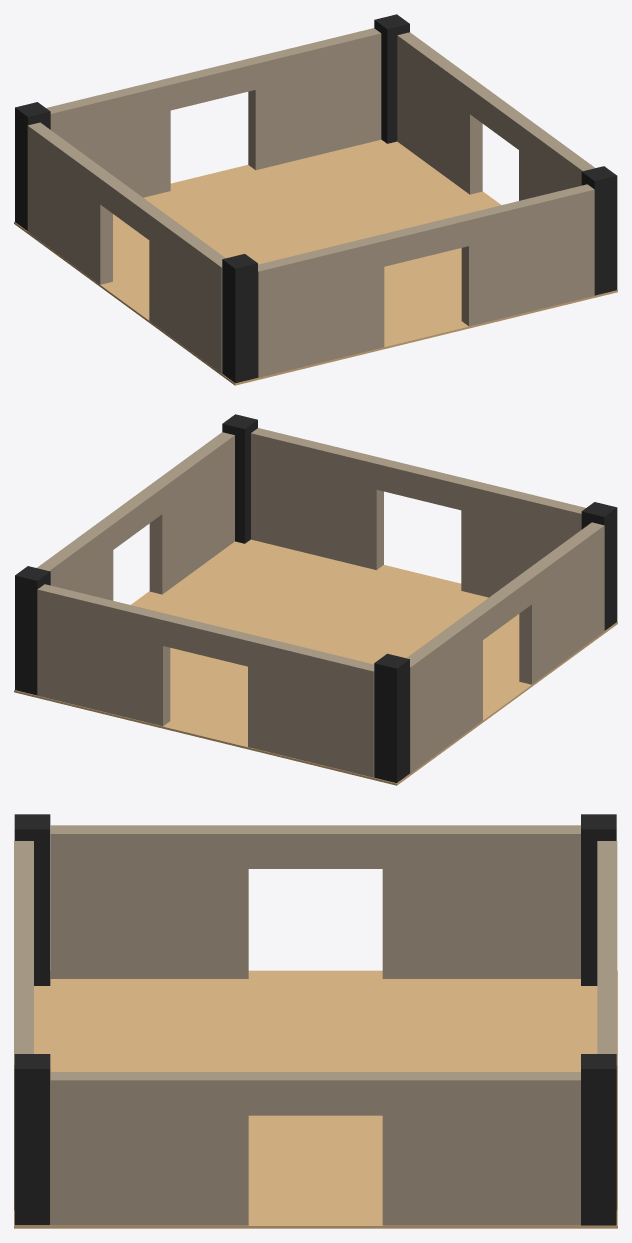
The model's file is emetyroom.fbx.
3 renders of one model, top to bottom at view 1: azimuth 30°, elevation 25°; view 2: azimuth 150°, elevation 25°; view 3: azimuth 270°, elevation 25°, orthographic. The views are drawn at different scales.
Parts seen in each view (by area): view 1: pCube15; view 2: pCube15; view 3: pCube15.
Part boxes in pixels (x1,y1,x2,y2): pCube15: [14, 14, 617, 385]; pCube15: [14, 414, 617, 785]; pCube15: [14, 814, 617, 1228].
Size of the model in its own units: 200 by 58.06 by 200.
